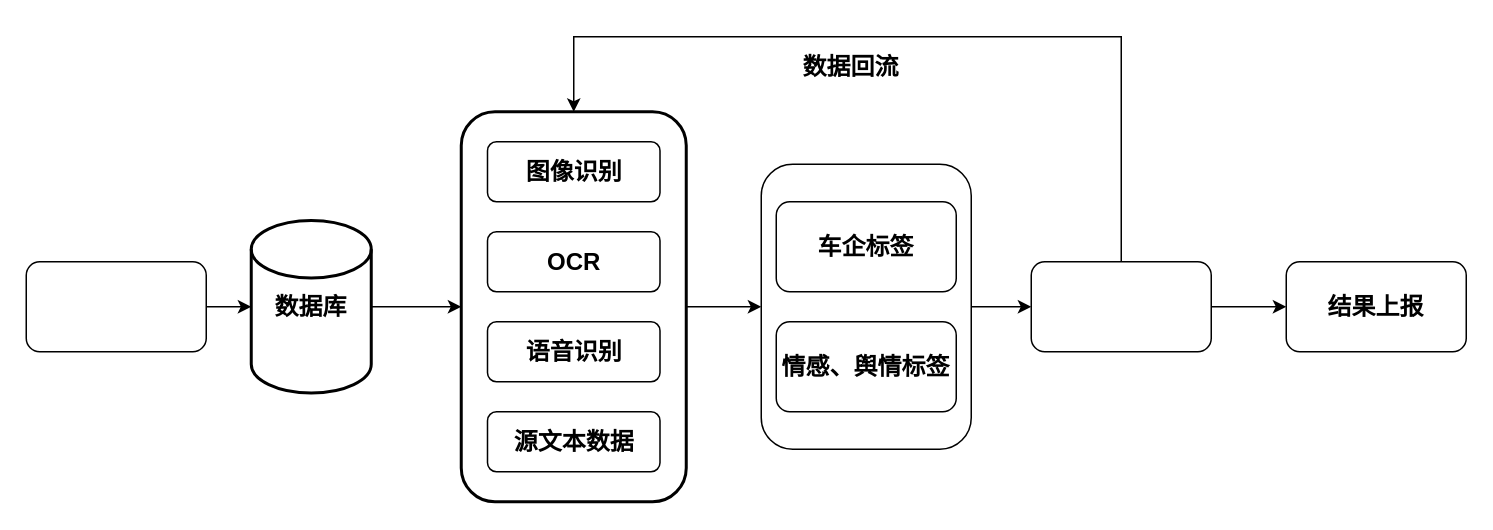
Some shapes in this 1493 by 530 pixel diagram are drawn without their labels. The box of each missing label's shape, as (x1, y1, x2, y2) in pixels:
人工审核系统: (1030, 260, 1211, 352)
爬虫服务: (25, 260, 206, 352)
